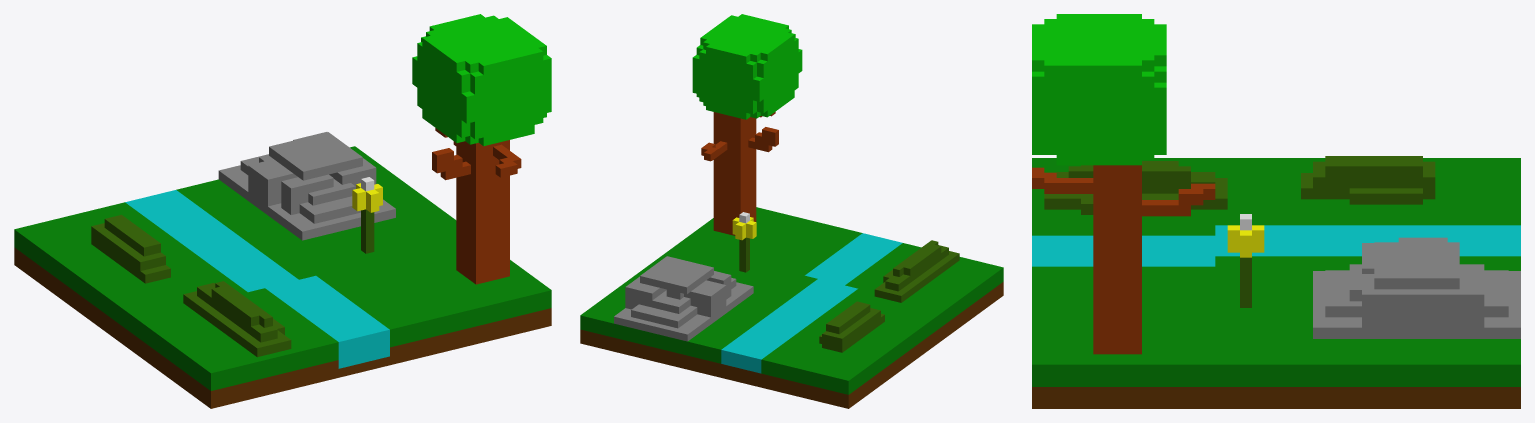
Rendered from paisaje.gltf.
3 renders of one model, left to right at view 1: azimuth 30°, elevation 25°; view 2: azimuth 150°, elevation 25°; view 3: azimuth 270°, elevation 25°, orthographic. The views are drawn at different scales.
Visible parts, largest first — view 1: Node1; view 2: Node1; view 3: Node1.
Boxes of the visible parts, box(x1,y1,x2,y2) form: Node1: box(14, 14, 551, 408); Node1: box(580, 14, 1003, 408); Node1: box(1032, 14, 1520, 408).
Size of the model in its own units: 4 by 3.1 by 4.
Materials: 1 (1 with a texture image).
